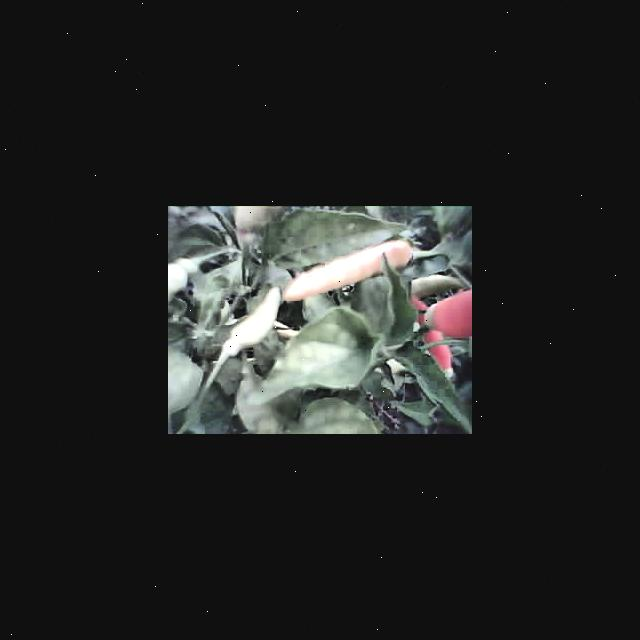Cabai: (413, 295, 472, 378), (288, 249, 384, 289)
